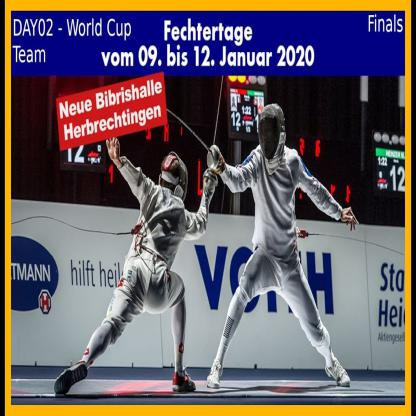fencer: (198, 100, 367, 401), (51, 131, 219, 394)
